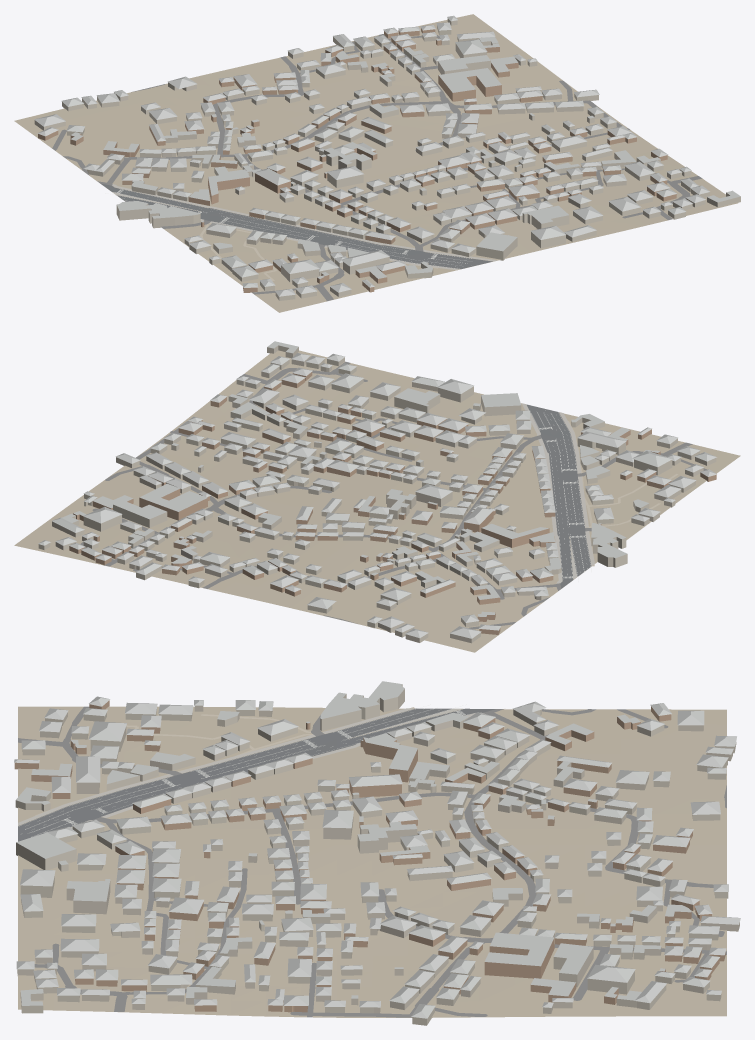
The model's file is bolak_1_0.glb.
3 renders of one model, top to bottom at view 1: azimuth 30°, elevation 25°; view 2: azimuth 150°, elevation 25°; view 3: azimuth 270°, elevation 25°, orthographic. The views are drawn at different scales.
Visible parts, largest first — view 1: Yer_Tuproq-col, Tom_Shifer, Devor_Suvoq-col, Devor_Gisht-col, Yol_Mahalla-col, Yol_Asfalt-col, Trotuar; view 2: Yer_Tuproq-col, Tom_Shifer, Devor_Suvoq-col, Devor_Gisht-col, Yol_Asfalt-col, Yol_Mahalla-col, Trotuar, Yol_Chiziq; view 3: Yer_Tuproq-col, Tom_Shifer, Devor_Suvoq-col, Devor_Gisht-col, Yol_Mahalla-col, Yol_Asfalt-col, Trotuar, Yol_Chiziq, Yol_Piyoda.
Part boxes in pixels (box(x1,y1,x2,y2)): Yer_Tuproq-col: box(14, 14, 737, 312); Tom_Shifer: box(34, 15, 740, 296); Devor_Suvoq-col: box(34, 18, 740, 300); Devor_Gisht-col: box(38, 28, 676, 292); Yol_Mahalla-col: box(52, 34, 702, 301); Yol_Asfalt-col: box(101, 183, 492, 268); Trotuar: box(98, 181, 496, 269); Yer_Tuproq-col: box(14, 350, 740, 652); Tom_Shifer: box(38, 341, 716, 638); Devor_Suvoq-col: box(38, 345, 716, 643); Devor_Gisht-col: box(69, 372, 716, 634); Yol_Asfalt-col: box(526, 404, 591, 588); Yol_Mahalla-col: box(80, 361, 706, 629); Trotuar: box(521, 403, 594, 590); Yol_Chiziq: box(531, 410, 591, 581); Yer_Tuproq-col: box(18, 706, 726, 1017); Tom_Shifer: box(14, 681, 740, 1018); Devor_Suvoq-col: box(15, 684, 739, 1025); Devor_Gisht-col: box(14, 700, 725, 1012); Yol_Mahalla-col: box(18, 706, 726, 1017); Yol_Asfalt-col: box(18, 708, 495, 841); Trotuar: box(18, 708, 485, 828); Yol_Chiziq: box(19, 704, 467, 837); Yol_Piyoda: box(35, 707, 414, 815).
Size of what is drawn, in the model's own units: 430 by 18.31 by 410.
